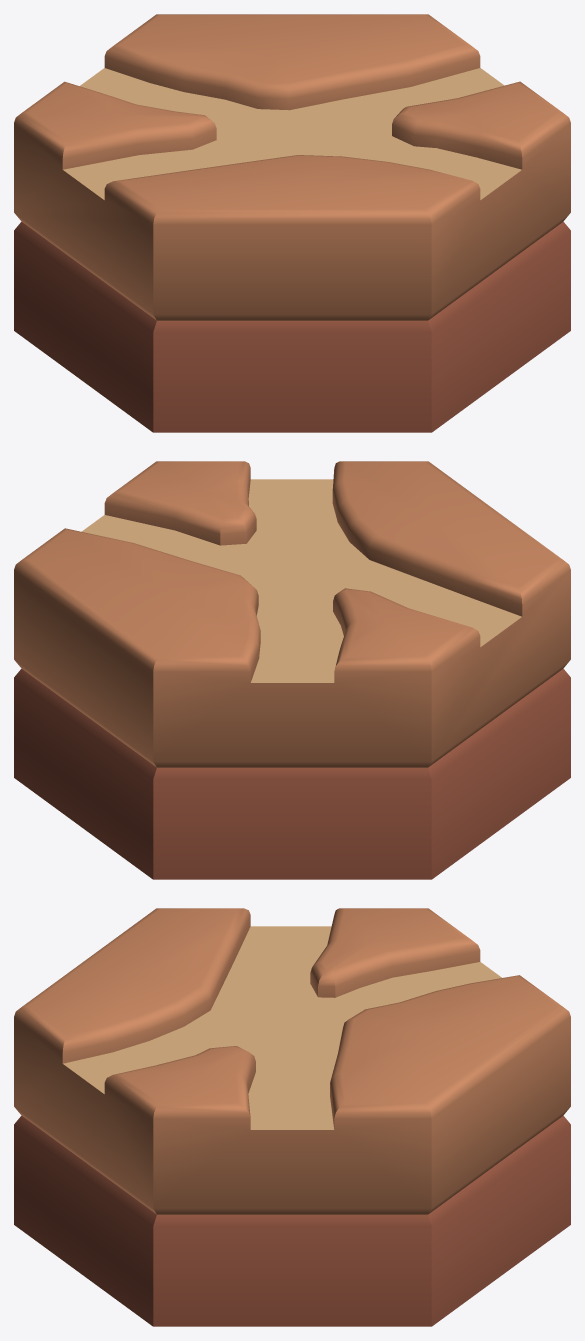
File: hex_rock_roadJ_detail.glb
3 renders of one model, top to bottom at view 1: azimuth 30°, elevation 25°; view 2: azimuth 150°, elevation 25°; view 3: azimuth 270°, elevation 25°, orthographic.
Visible parts, largest first — view 1: hex_rock_roadJ_detail; view 2: hex_rock_roadJ_detail; view 3: hex_rock_roadJ_detail.
Boxes of the visible parts, x1=… form: hex_rock_roadJ_detail: x1=14, y1=14, x2=570, y2=432; hex_rock_roadJ_detail: x1=14, y1=461, x2=570, y2=879; hex_rock_roadJ_detail: x1=14, y1=908, x2=570, y2=1326.
Bounding box in the file's own units: 3.82 × 1.91 × 4.41.
